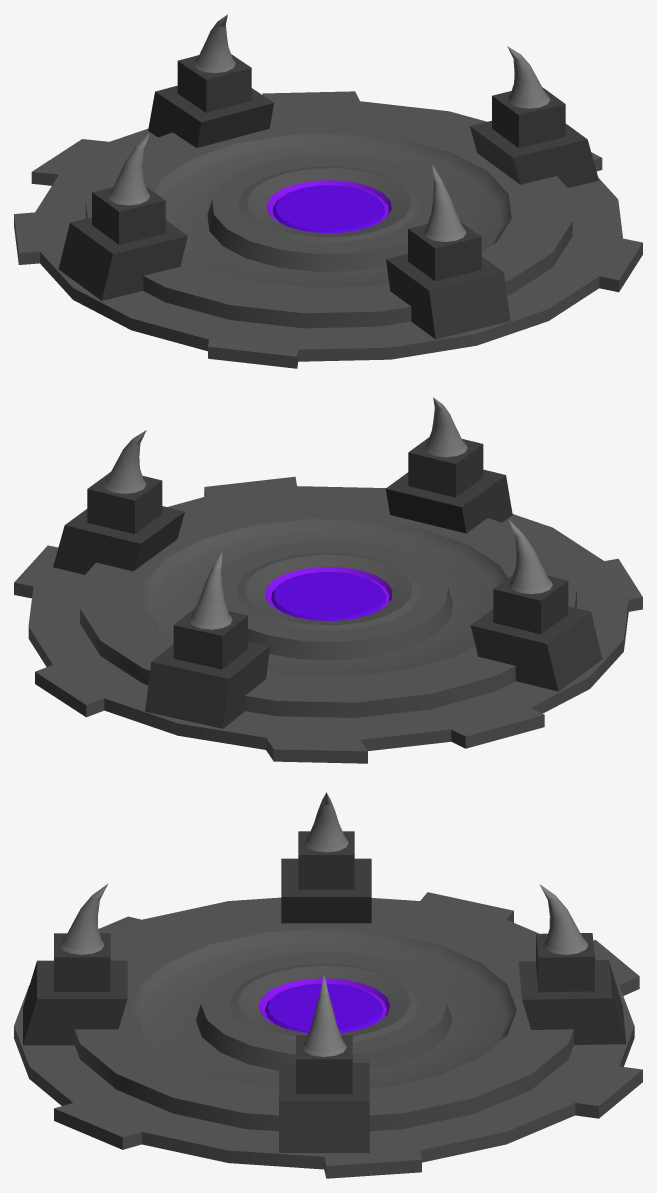
File: portal.glb
3 views of the same model, one above another, from view 1: azimuth 30°, elevation 25°; view 2: azimuth 150°, elevation 25°; view 3: azimuth 270°, elevation 25° (orthographic). The views are drawn at different scales.
Parts seen in each view (by area): view 1: Object_5, Object_6, Object_2, Object_7, Object_3, Object_4; view 2: Object_5, Object_6, Object_2, Object_7, Object_3, Object_4; view 3: Object_5, Object_6, Object_2, Object_7, Object_3, Object_4.
Part boxes in pixels (box(x1,y1,x2,y2)): Object_5: box(35, 101, 622, 361); Object_6: box(58, 54, 598, 339); Object_2: box(14, 91, 642, 368); Object_7: box(107, 14, 550, 241); Object_3: box(273, 185, 385, 233); Object_4: box(266, 180, 391, 226); Object_5: box(28, 486, 628, 749); Object_6: box(53, 437, 602, 728); Object_2: box(14, 476, 642, 763); Object_7: box(102, 397, 552, 629); Object_3: box(271, 572, 385, 620); Object_4: box(264, 567, 392, 612); Object_5: box(14, 897, 634, 1169); Object_6: box(23, 831, 626, 1152); Object_2: box(54, 892, 642, 1178); Object_7: box(59, 792, 587, 1056); Object_3: box(265, 983, 383, 1032); Object_4: box(258, 978, 390, 1024).
Size of the model in its own units: 7.11 by 1.89 by 6.9.
